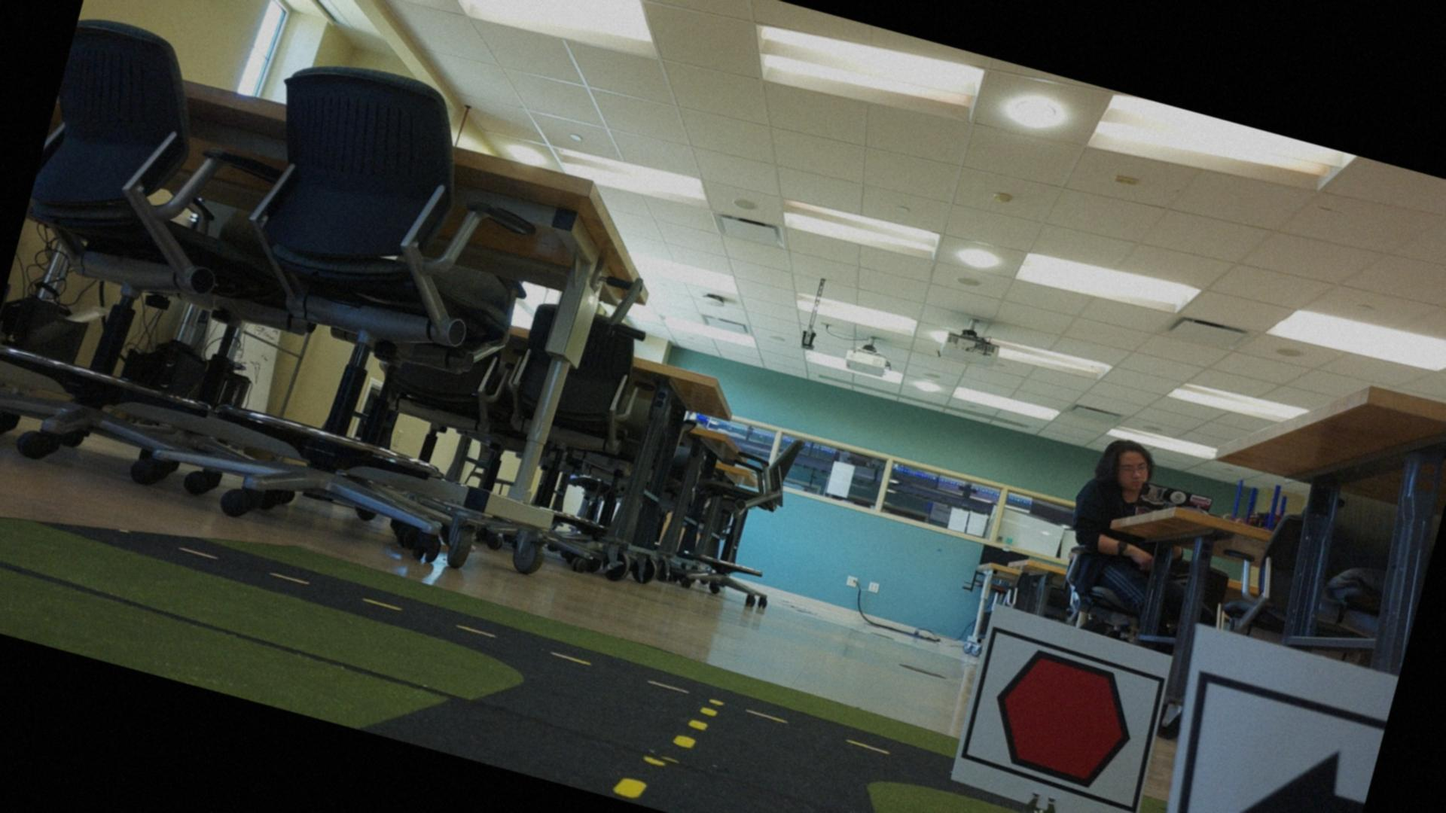stop: (965, 636, 1160, 804)
yellowline: (674, 699, 716, 755)
